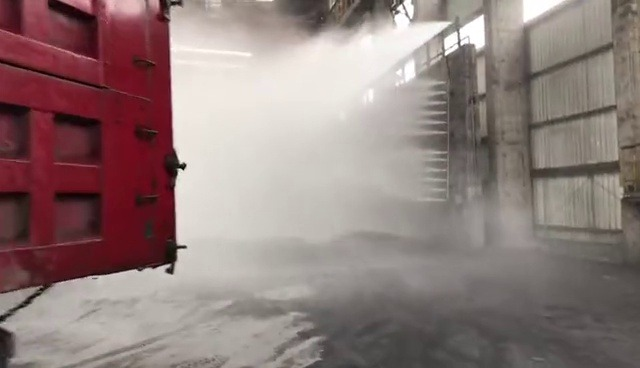dust: (172, 21, 415, 261)
